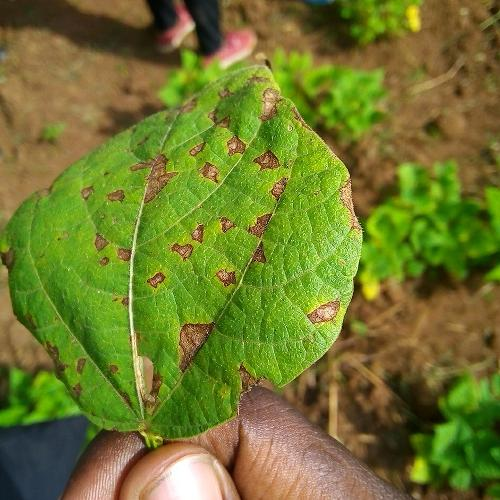hawar: (37, 151, 314, 412), (167, 85, 306, 183)
